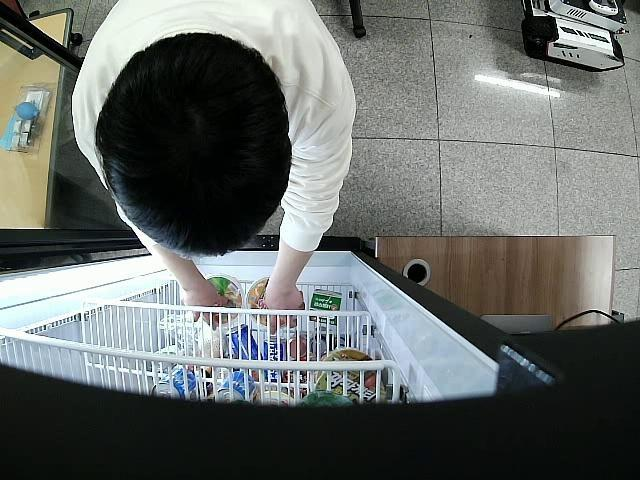09_yukGaeJang: (246, 276, 299, 328), (206, 274, 243, 324)
